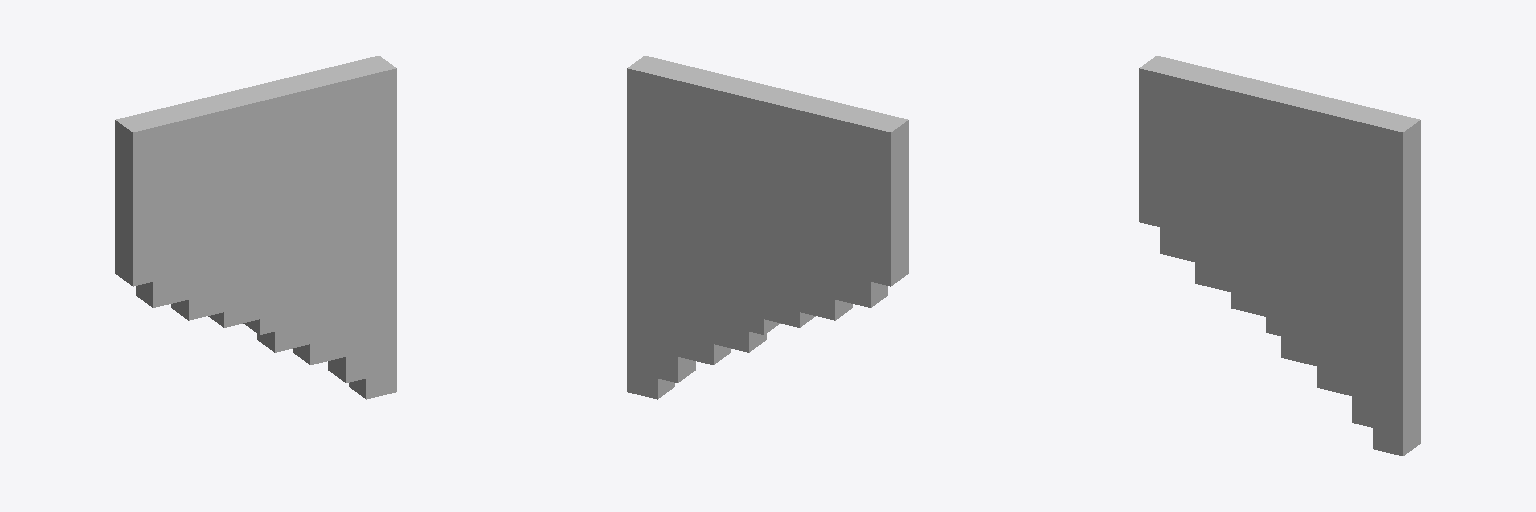
File: sun 1.obj
3 views of the same model, side by side, from view 1: azimuth 30°, elevation 25°; view 2: azimuth 150°, elevation 25°; view 3: azimuth 330°, elevation 25° (orthographic).
Bounding box in the file's own units: 52 × 61 × 6.